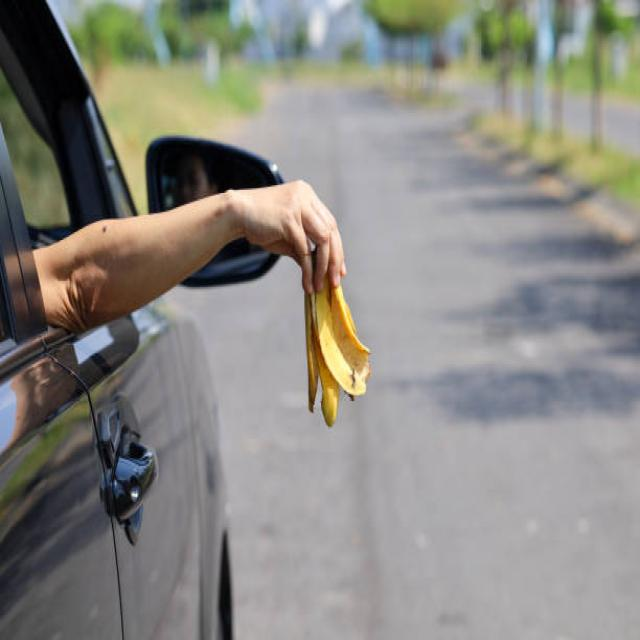banana_peel: (269, 233, 385, 412)
